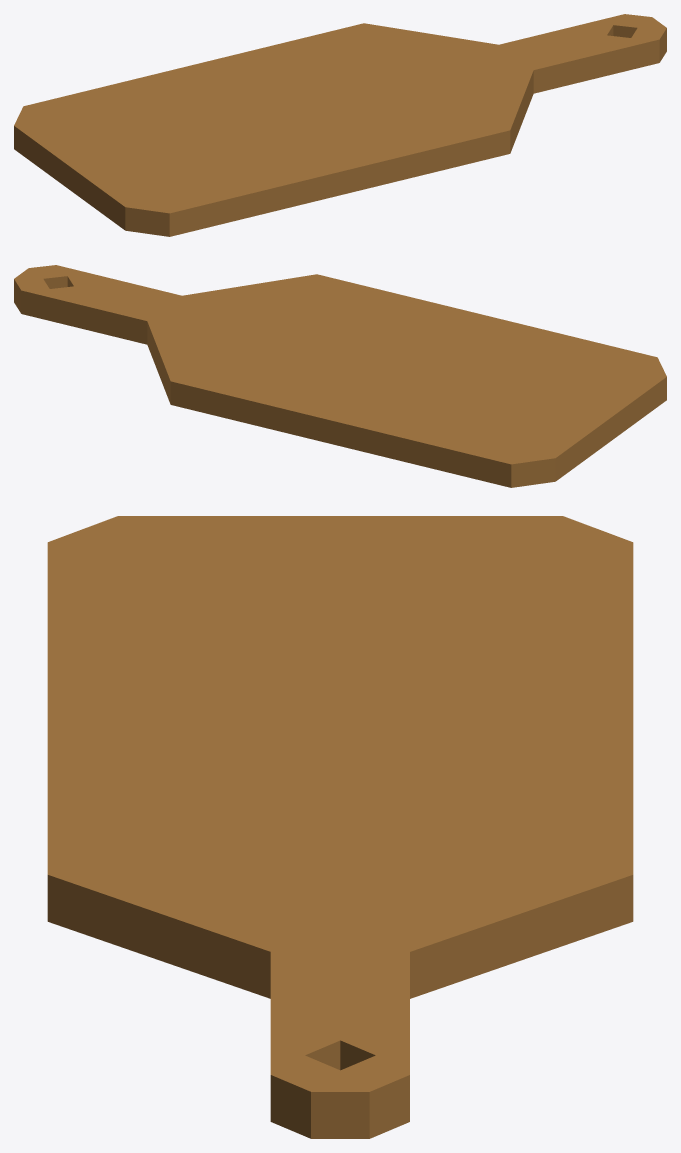
Rendered from dishes-board-cutting.glb.
3 renders of one model, top to bottom at view 1: azimuth 30°, elevation 25°; view 2: azimuth 150°, elevation 25°; view 3: azimuth 270°, elevation 25°, orthographic. The views are drawn at different scales.
Parts seen in each view (by area): view 1: board-cutting; view 2: board-cutting; view 3: board-cutting.
Part boxes in pixels (x1,y1,x2,y2): board-cutting: [14, 14, 666, 236]; board-cutting: [14, 265, 666, 487]; board-cutting: [47, 516, 633, 1138].
Bounding box in the file's own units: 0.42 × 0.016 × 0.1804.
